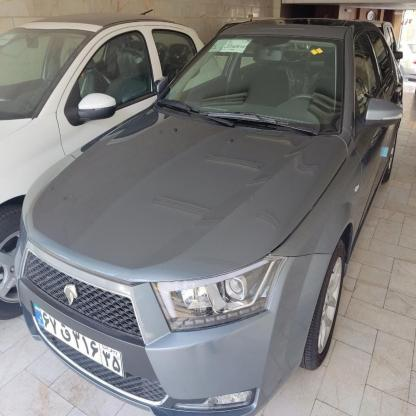Car: (23, 26, 410, 416), (0, 9, 202, 217)
